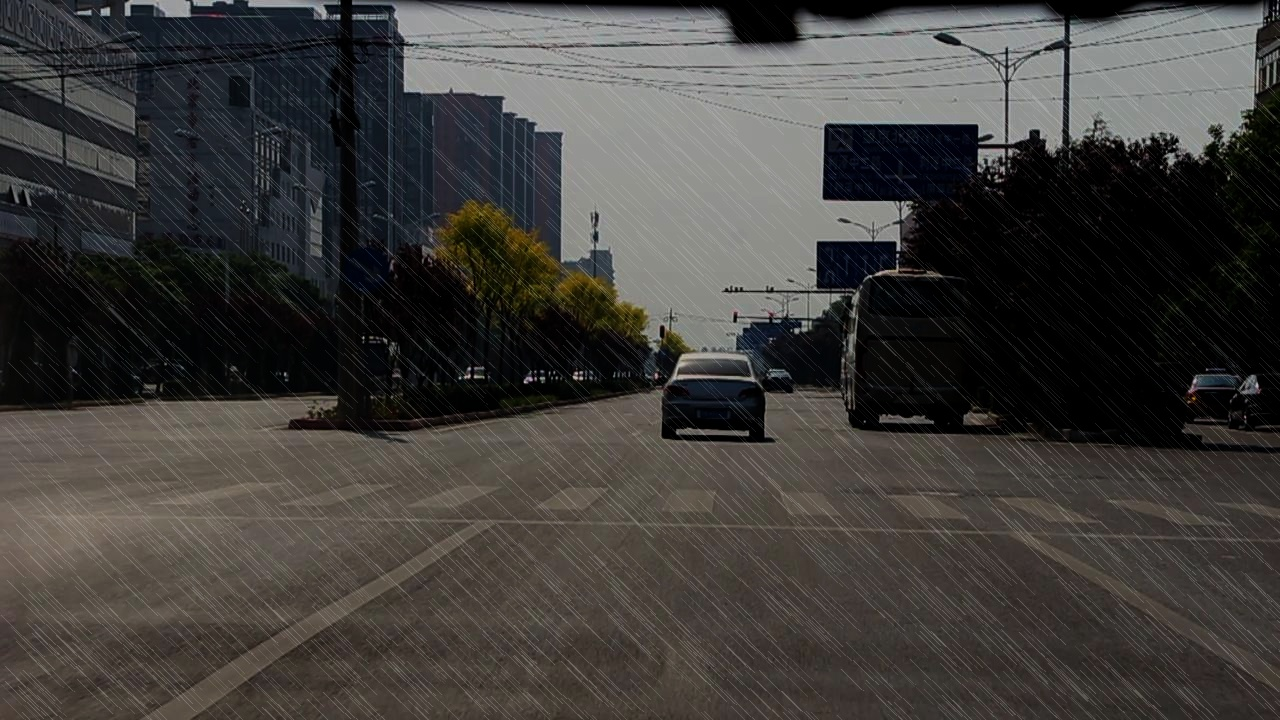Informative Signs: (342, 247, 391, 295)
